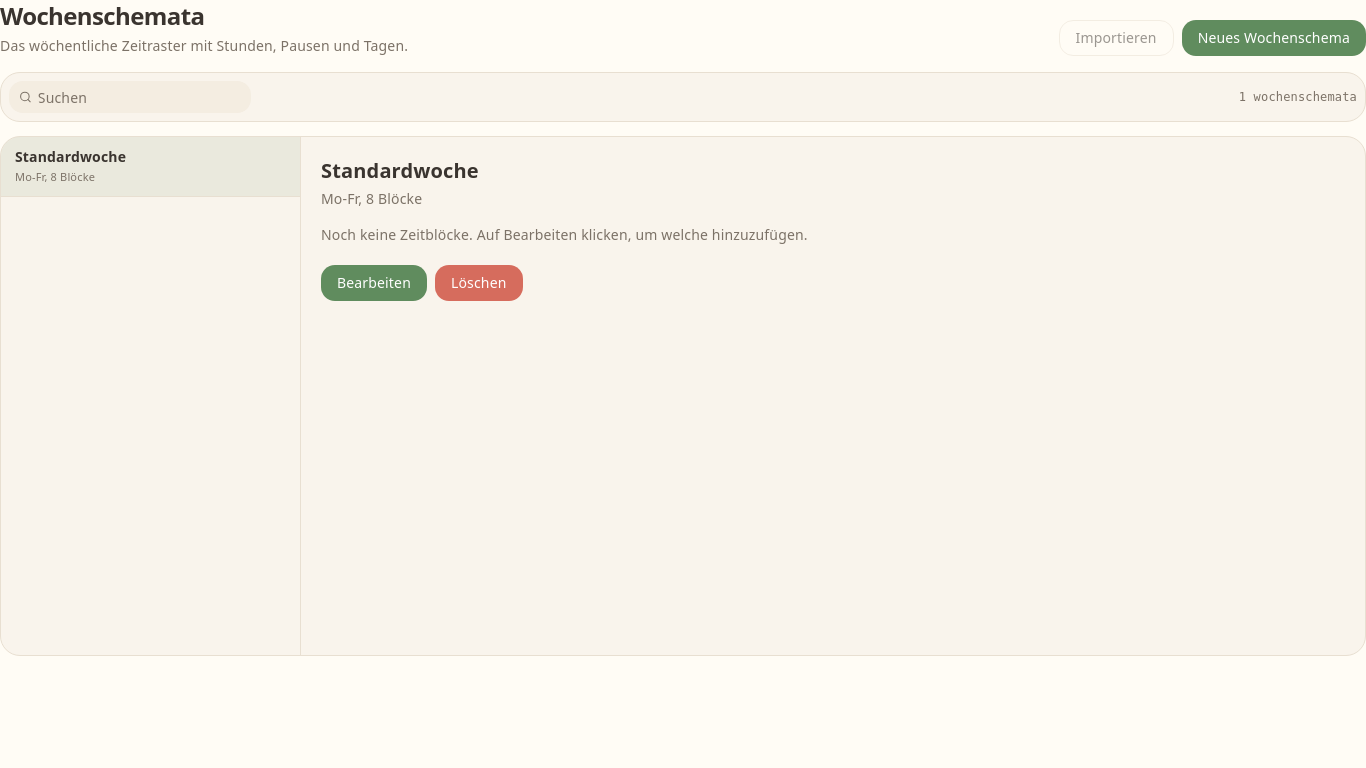
it: WeekSchemesPage › creates a week scheme via the dialog and closes on success
Expected: the heading "Standardwoche" is shown, [321, 157, 479, 184]
Click the button "Neues Wochenschema" at (1274, 38), box [1182, 20, 1365, 56]
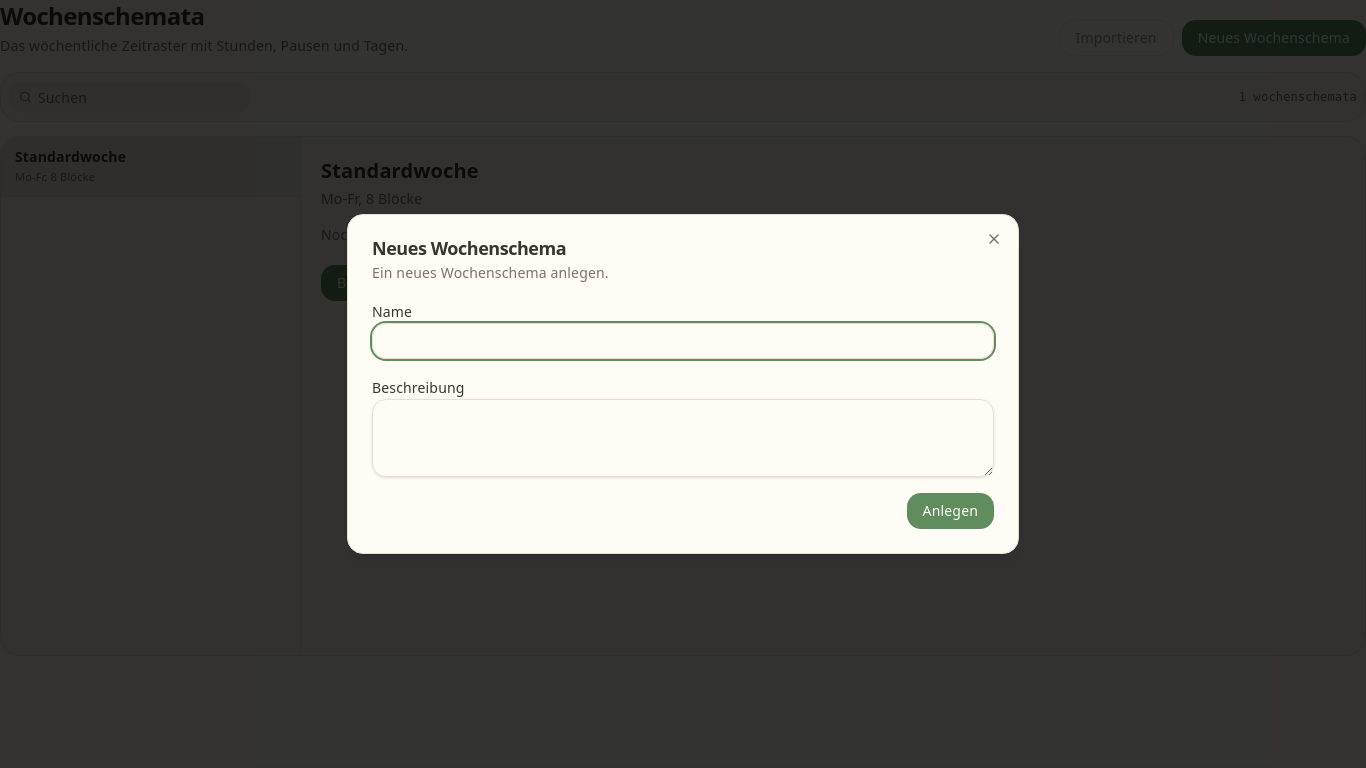
Type "A-Woche" into the field labelled "Name" at (683, 341), box [372, 323, 994, 359]
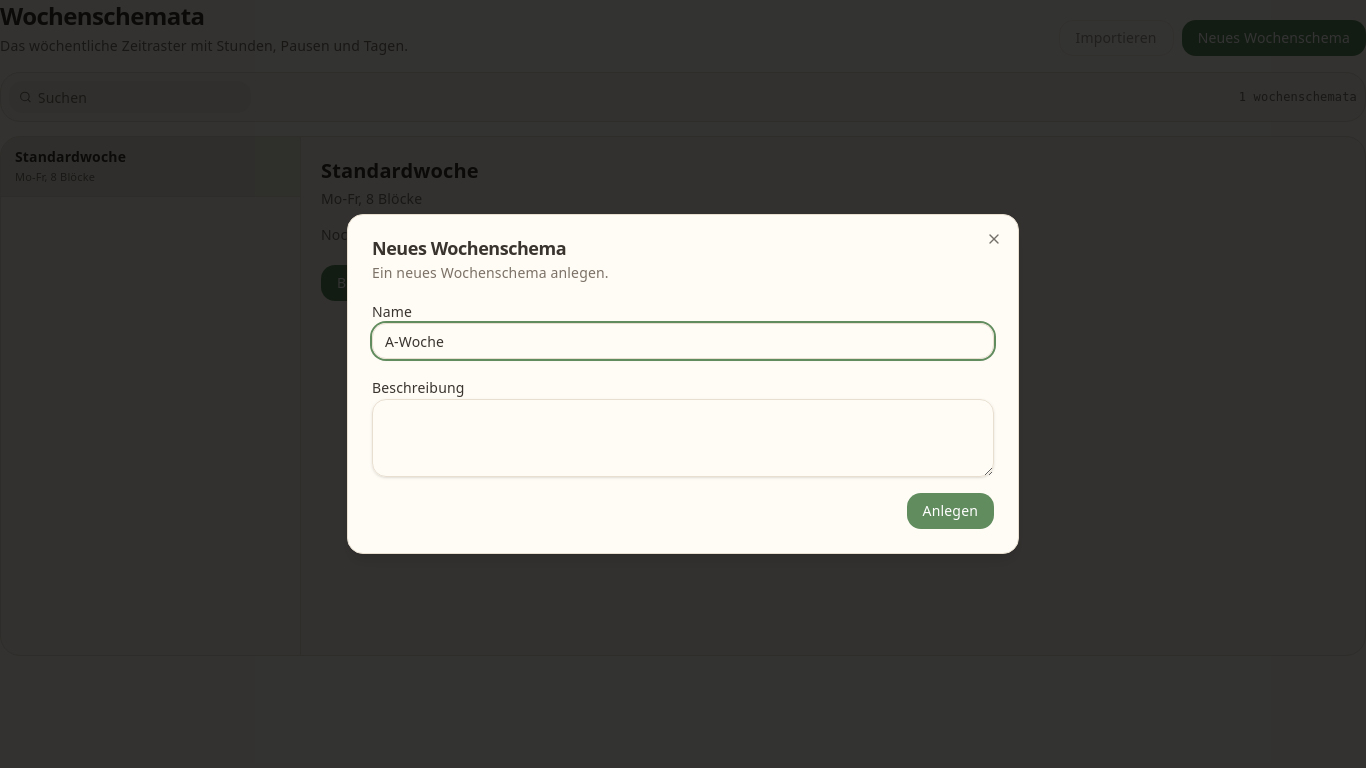
Click the button "Anlegen" at (950, 511), box [907, 493, 994, 529]
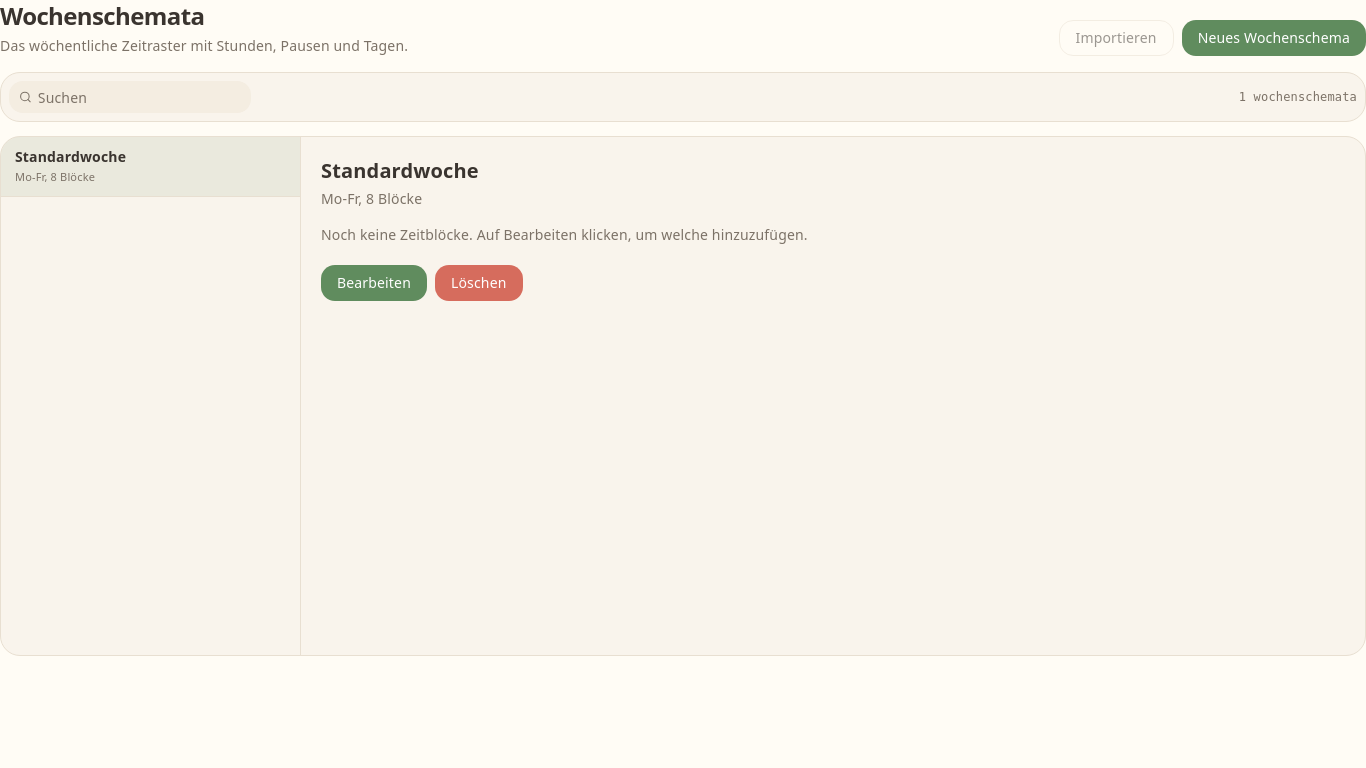
Now the dialog is gone
